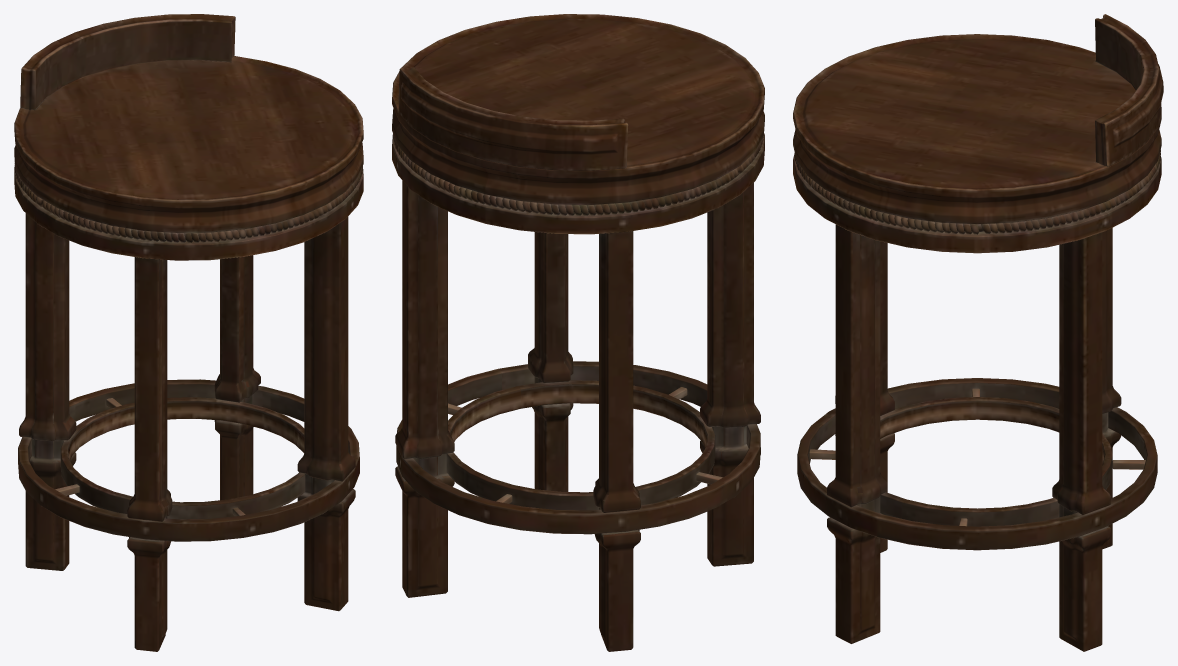
The model's file is stool-wood.glb.
3 views of the same model, side by side, from view 1: azimuth 30°, elevation 25°; view 2: azimuth 150°, elevation 25°; view 3: azimuth 270°, elevation 25° (orthographic). The views are drawn at different scales.
Visible parts, largest first — view 1: bar_chair_round_01; view 2: bar_chair_round_01; view 3: bar_chair_round_01.
Part boxes in pixels (left/top/right/bottom): bar_chair_round_01: left=14, top=14, right=363, bottom=651; bar_chair_round_01: left=392, top=14, right=764, bottom=651; bar_chair_round_01: left=793, top=14, right=1163, bottom=651.
Bounding box in the file's own units: 0.48 × 0.75 × 0.48.
Materials: 1 (1 with a texture image).
